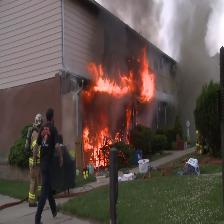fire: (76, 50, 161, 179)
nofire: (176, 133, 186, 153)
smoke: (88, 0, 224, 73), (170, 0, 224, 138)
